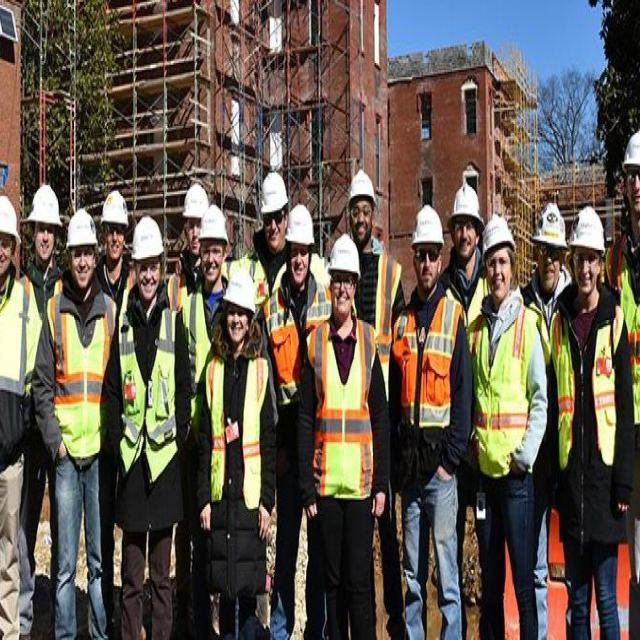reflective_jacket: (395, 288, 465, 484), (549, 297, 621, 481), (310, 319, 377, 504), (116, 295, 181, 484), (46, 289, 115, 459), (473, 309, 528, 484), (207, 356, 265, 511)
safety_helmet: (220, 262, 258, 316), (409, 197, 444, 250), (25, 179, 63, 227), (570, 200, 605, 252), (131, 210, 166, 261), (326, 230, 361, 280), (532, 197, 566, 248), (448, 179, 485, 225), (284, 198, 317, 247), (197, 197, 230, 245), (481, 210, 516, 255), (344, 164, 379, 209), (257, 166, 289, 215), (65, 204, 97, 250), (99, 184, 131, 228), (181, 178, 210, 223), (620, 126, 639, 176), (0, 194, 19, 238)
